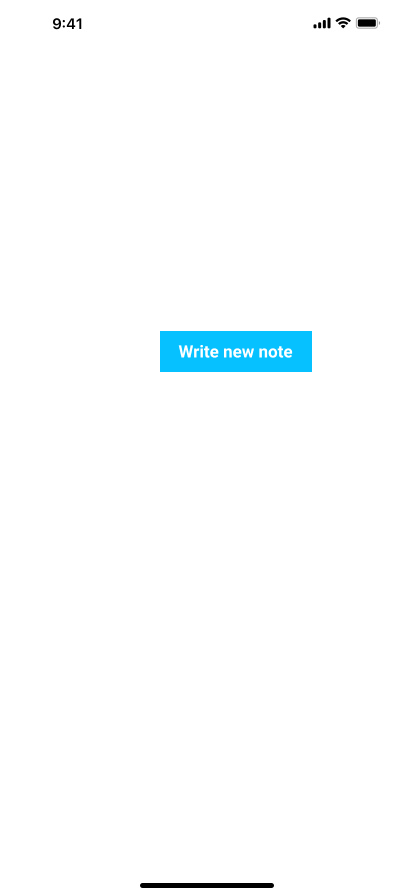Buttons: (160, 331, 312, 372)
Home Indicator: (0, 862, 414, 896)
Status Bar: (0, 0, 414, 44)
